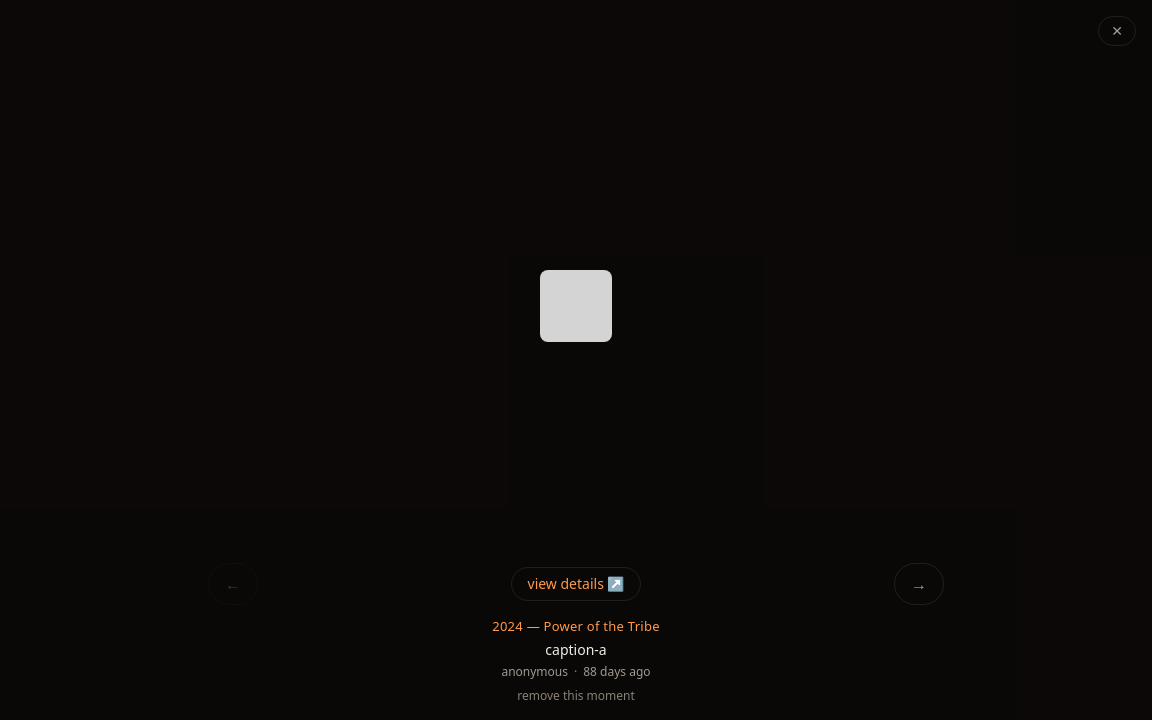
Lightbox remove control › one tap only arms the confirmation — nothing is removed yet
Click the button "remove this moment".
click(576, 696)  # box 517,688 -> 635,704
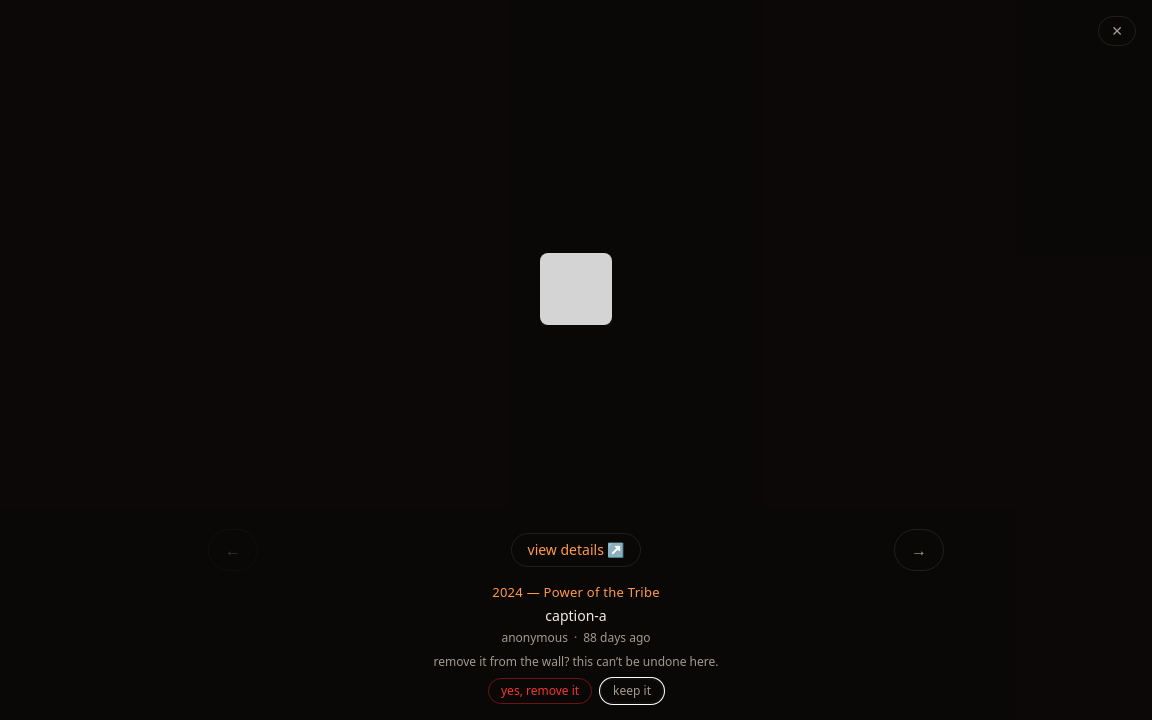
Now the text "remove it from the wall? this can’t be undone here." is shown, box 434,654 -> 718,670
